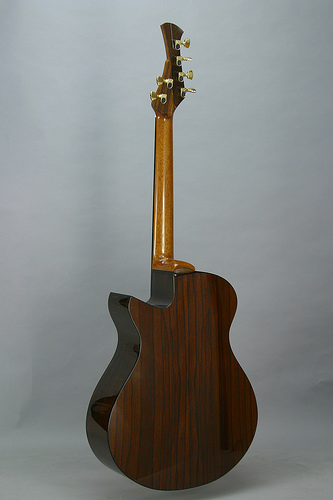guitar: (87, 24, 261, 494)
